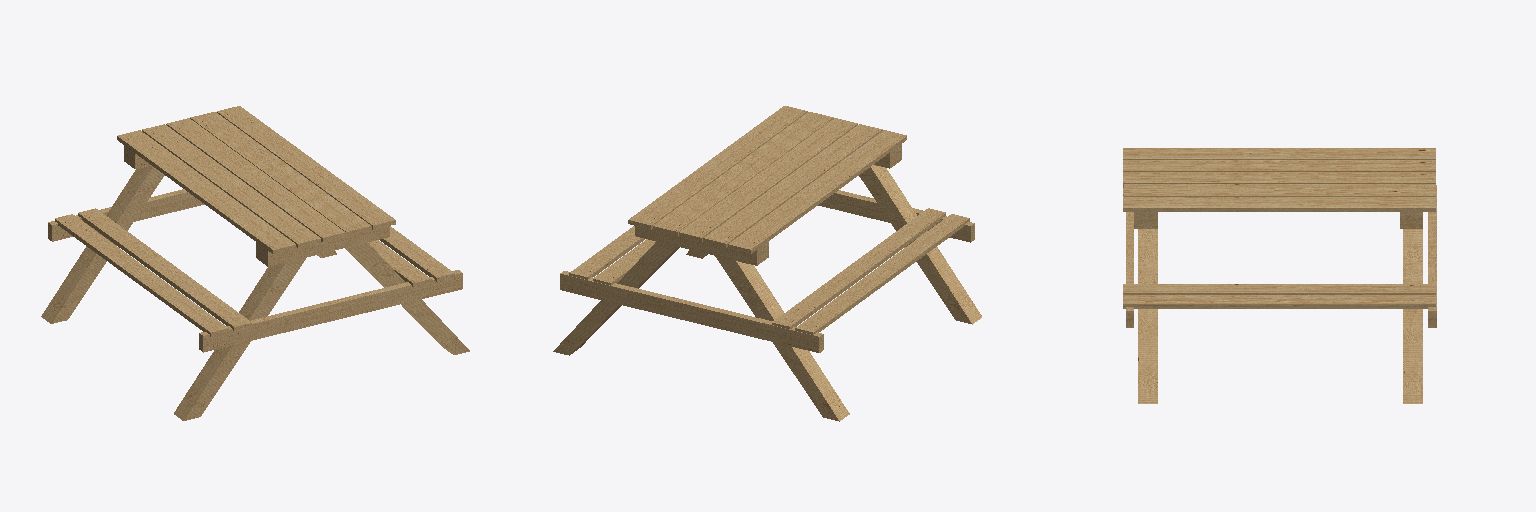
3 renders of one model, left to right at view 1: azimuth 30°, elevation 25°; view 2: azimuth 150°, elevation 25°; view 3: azimuth 270°, elevation 25°, orthographic.
Parts seen in each view (by area): view 1: Object.5, Object.3, Object.2, Object.4, Object.8, Object.6, Object.7, Object.1; view 2: Object.5, Object.4, Object.2, Object.3, Object.8, Object.6, Object.7, Object.1; view 3: Object.5, Object.1, Object.8, Object.7, Object.2, Object.6, Object.3, Object.4.
Boxes of the visible parts, <box> form: Object.5: <box>48,189,462,352</box>; Object.3: <box>174,226,469,420</box>; Object.2: <box>117,130,295,253</box>; Object.4: <box>41,146,336,323</box>; Object.8: <box>190,112,371,236</box>; Object.6: <box>142,124,320,247</box>; Object.7: <box>166,118,345,241</box>; Object.1: <box>217,106,395,229</box>; Object.5: <box>560,190,974,352</box>; Object.4: <box>553,226,849,421</box>; Object.2: <box>728,130,906,253</box>; Object.3: <box>686,144,981,324</box>; Object.8: <box>653,112,833,235</box>; Object.6: <box>703,124,882,247</box>; Object.7: <box>679,118,857,241</box>; Object.1: <box>628,106,807,229</box>; Object.5: <box>1123,185,1436,327</box>; Object.1: <box>1123,197,1435,211</box>; Object.8: <box>1124,184,1435,196</box>; Object.7: <box>1123,172,1435,187</box>; Object.2: <box>1123,148,1435,159</box>; Object.6: <box>1123,160,1435,171</box>; Object.3: <box>1134,212,1157,403</box>; Object.4: <box>1400,212,1422,403</box>.
Bounding box in the file's own units: 130 × 67.7 × 123.
1 materials, 1 textured.